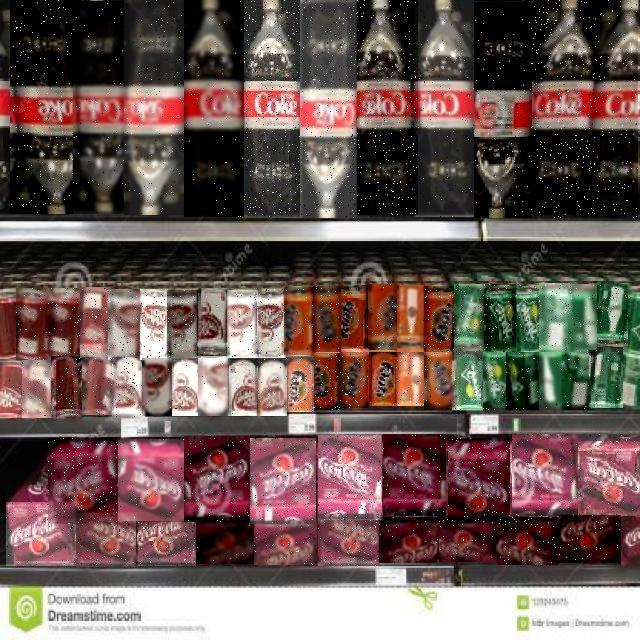Drinks: (10, 1, 81, 215), (532, 0, 596, 218), (184, 0, 244, 217), (358, 0, 418, 217), (124, 0, 184, 215), (244, 0, 302, 218), (300, 0, 358, 218), (474, 0, 532, 218), (418, 0, 474, 217), (73, 2, 129, 216), (595, 0, 638, 218), (48, 438, 118, 524), (184, 436, 250, 522), (250, 438, 316, 524), (318, 435, 382, 520), (513, 435, 579, 517), (118, 439, 184, 521), (448, 438, 510, 524), (383, 435, 446, 517), (578, 435, 640, 517), (6, 502, 76, 566), (76, 513, 136, 567), (559, 515, 621, 563), (498, 517, 560, 565), (318, 520, 380, 566), (379, 517, 439, 563), (440, 516, 498, 562), (254, 523, 317, 565), (138, 522, 196, 566), (196, 521, 255, 564), (16, 288, 50, 361), (108, 289, 141, 360), (49, 289, 82, 357), (284, 287, 316, 355), (454, 285, 486, 353), (484, 285, 516, 353), (167, 290, 198, 358), (197, 289, 228, 357), (227, 290, 258, 358), (256, 289, 287, 357), (539, 284, 570, 352), (597, 284, 628, 352), (80, 287, 109, 358), (51, 355, 84, 417), (514, 285, 544, 353), (568, 285, 598, 353), (140, 289, 168, 360), (112, 358, 145, 418), (424, 286, 454, 352), (562, 350, 595, 410), (22, 360, 56, 418), (82, 357, 116, 415), (506, 353, 540, 411), (589, 350, 623, 408), (452, 352, 483, 414), (198, 358, 230, 416), (313, 286, 341, 352), (342, 286, 370, 352), (369, 285, 397, 351), (397, 286, 425, 352), (142, 358, 172, 416), (424, 353, 454, 411), (228, 358, 258, 416), (258, 358, 287, 416), (0, 359, 28, 419), (483, 353, 511, 412), (172, 358, 200, 416), (539, 353, 567, 411), (314, 353, 342, 410), (341, 352, 369, 408), (286, 356, 314, 412), (396, 352, 424, 406), (369, 352, 397, 406)
